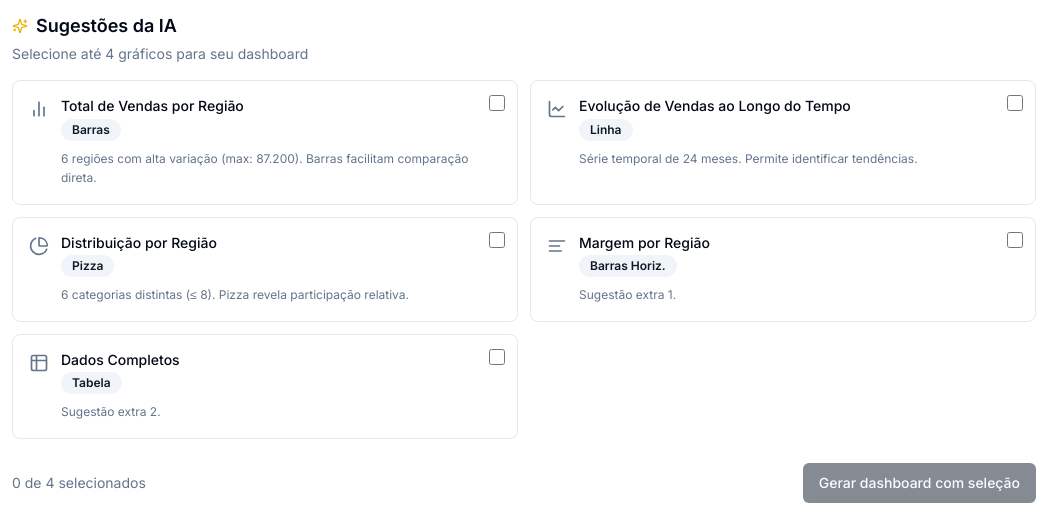
ChartSuggestionSelector › T-C05: desmarcar uma seleção reabilita checkboxes desabilitados
Click the element with test id "suggestion-card-0": [265, 142] box [12,80,518,204]
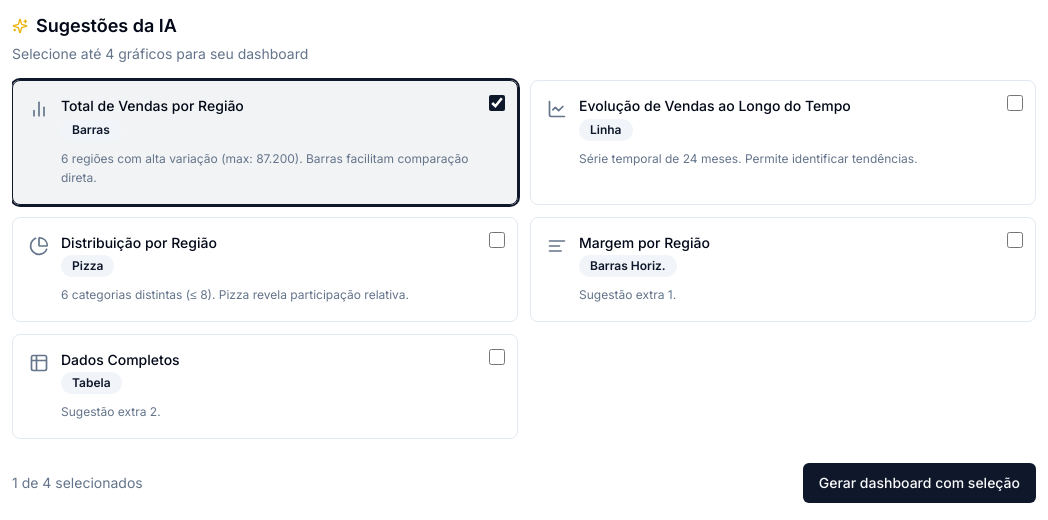
Click the element with test id "suggestion-card-1": [783, 142] box [530,80,1036,204]
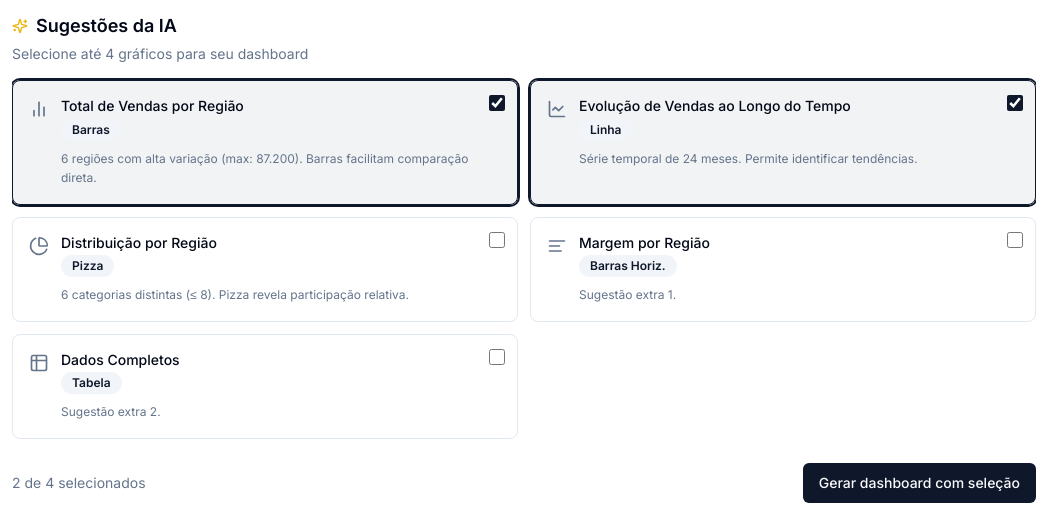
Click the element with test id "suggestion-card-2": [265, 269] box [12,216,518,322]
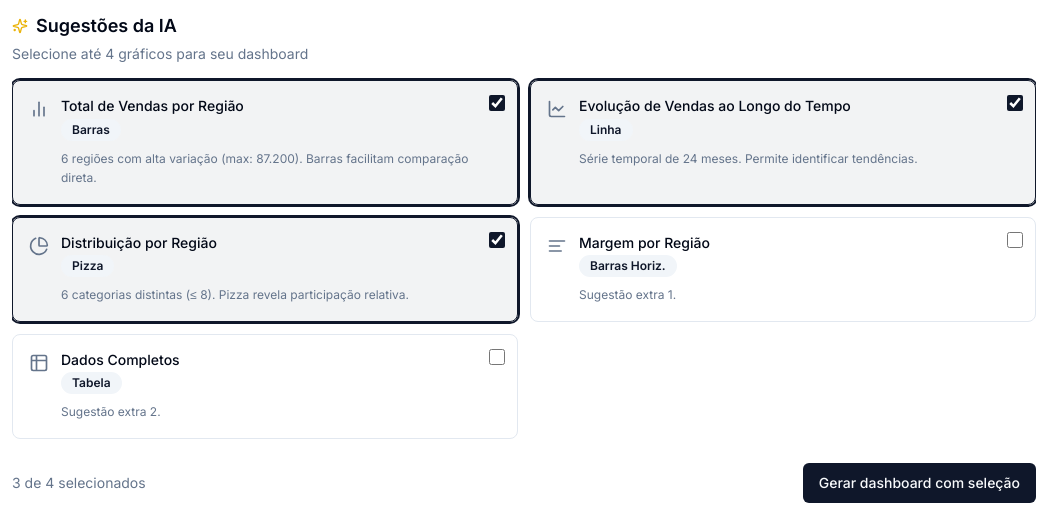
Click the element with test id "suggestion-card-3": [783, 269] box [530,216,1036,322]
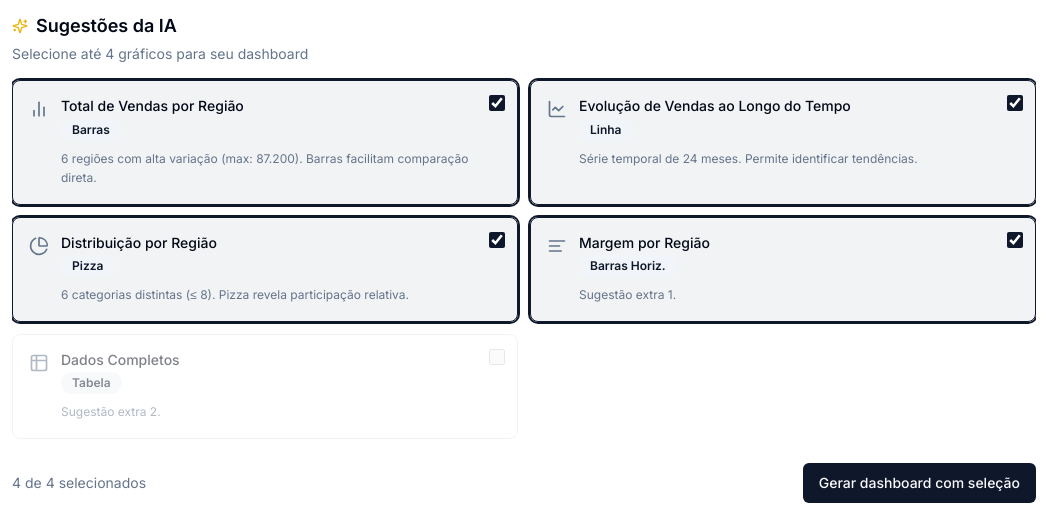
Note: Deselect the first card
Click the element with test id "suggestion-card-0": [265, 142] box [12,80,518,204]
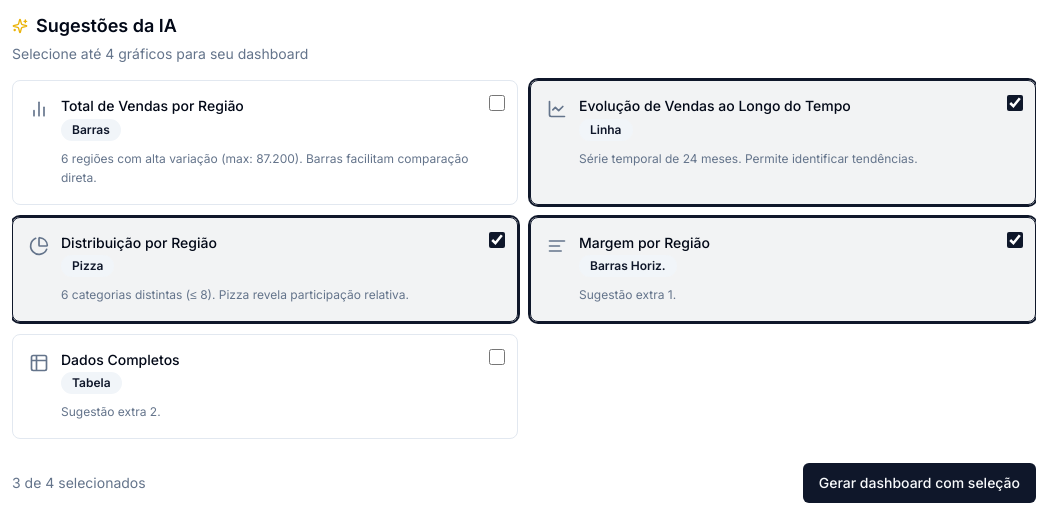
expect the text "3 de 4 selecionados" is shown: met, box [12,472,146,492]
expect the checkbox with test id "checkbox-4" is enabled: met, box [489,348,505,364]
